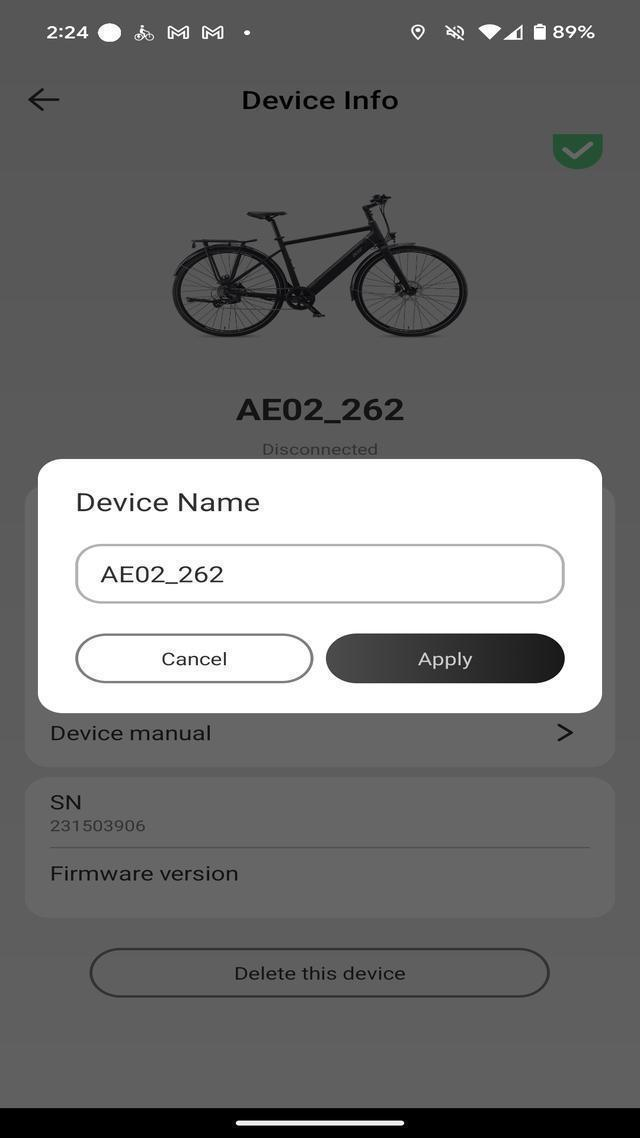Icon: (552, 130, 604, 170), (28, 87, 62, 121), (96, 22, 124, 46), (163, 20, 190, 44), (196, 22, 226, 42), (132, 22, 156, 46), (442, 18, 464, 44), (474, 21, 501, 42), (555, 722, 575, 747), (504, 22, 524, 44), (408, 22, 427, 44), (532, 18, 548, 44), (240, 25, 254, 42)
Image: (172, 194, 500, 350)
Text: (36, 854, 248, 896), (232, 389, 411, 430), (39, 718, 235, 750), (72, 486, 265, 518), (218, 960, 420, 988), (238, 82, 401, 116), (92, 555, 226, 590), (42, 816, 152, 838), (152, 644, 238, 672), (408, 644, 483, 673), (41, 788, 86, 813), (552, 20, 596, 42), (40, 25, 90, 43)
TextButton: (74, 544, 566, 601), (84, 945, 554, 1002), (324, 630, 563, 686), (76, 633, 313, 684)
